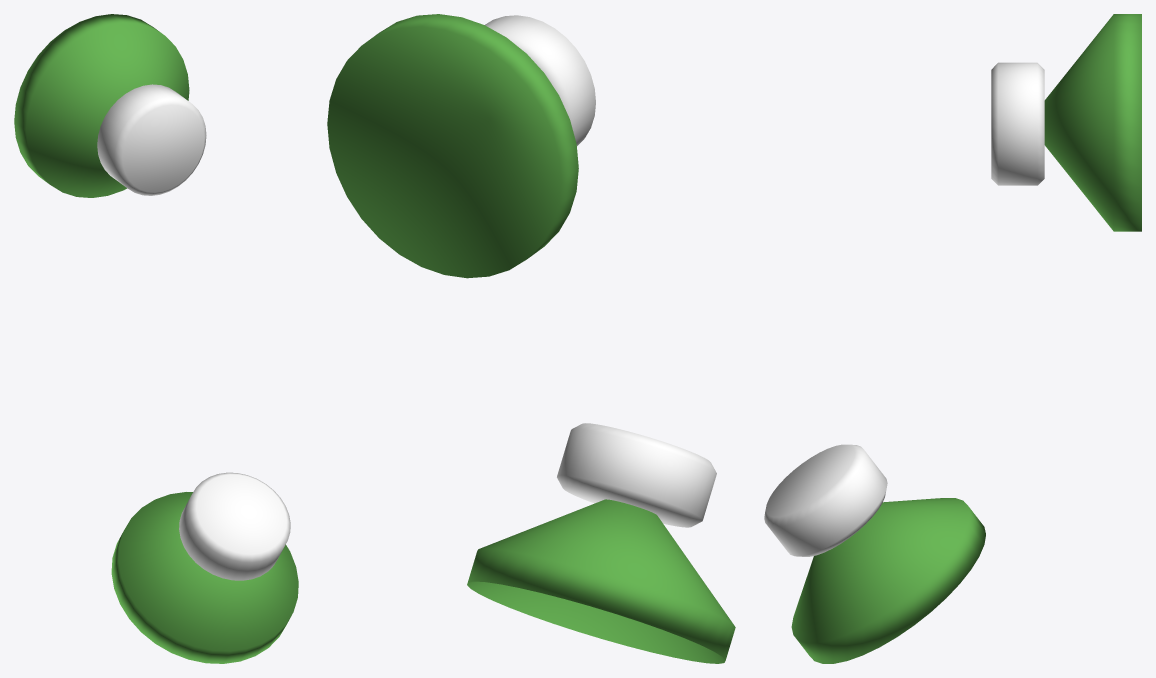
Rendered from item-puke-leaves.glb.
The picture shows the model from 3 angles, left to right: view 1: azimuth 30°, elevation 25°; view 2: azimuth 150°, elevation 25°; view 3: azimuth 270°, elevation 25°; orthographic projection. The views are drawn at different scales.
Bounding box in the file's own units: 5.77 × 18.23 × 10.
